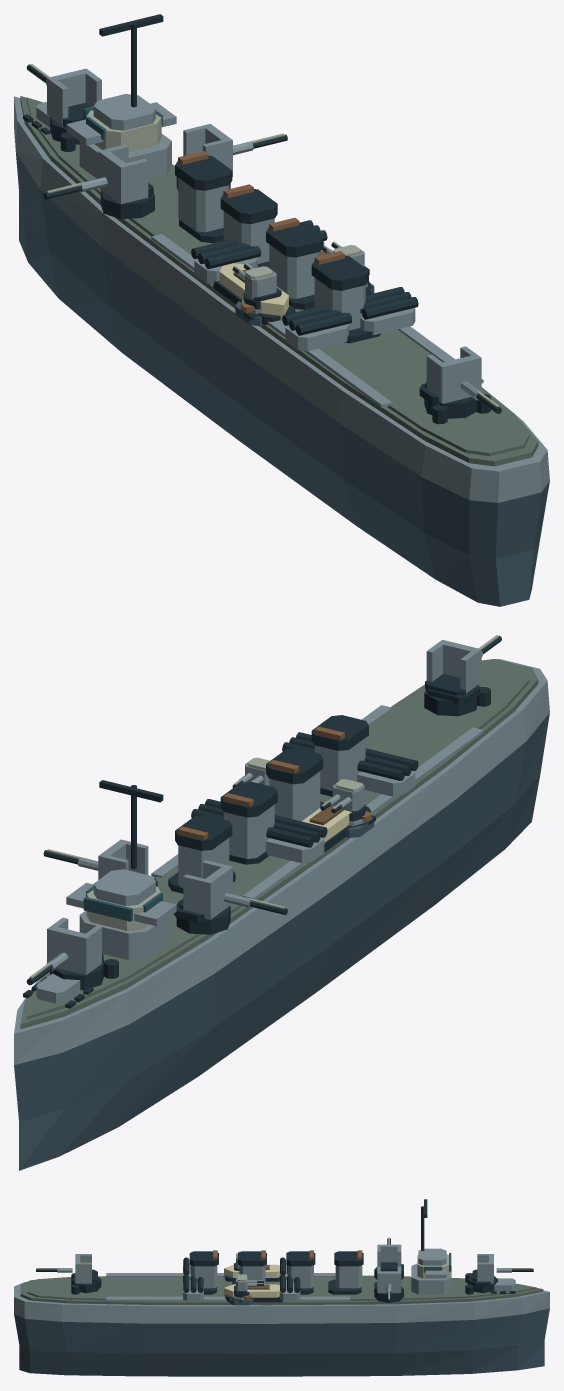
The model's file is historic-wickes.glb.
The picture shows the model from 3 angles, top to bottom: view 1: azimuth 30°, elevation 25°; view 2: azimuth 150°, elevation 25°; view 3: azimuth 270°, elevation 25°; orthographic projection. The views are drawn at different scales.
Parts seen in each view (by area): view 1: historic-wickes-historic-wickes-geometry, historic-wickes-part_bridge.120-geometry, historic-wickes-historic_funnel_0.113-geometry, historic-wickes-turret_main_2.068-geometry, historic-wickes-historic_funnel_2.009-geometry, historic-wickes-turret_main_1.082-geometry, historic-wickes-historic_funnel_3.006-geometry, historic-wickes-historic_funnel_1.063-geometry, historic-wickes-turret_main_0.089-geometry, historic-wickes-torpedo_bank_0.029-geometry, historic-wickes-torpedo_bank_1.026-geometry, historic-wickes-turret_main_3.043-geometry (+2 smaller); view 2: historic-wickes-historic-wickes-geometry, historic-wickes-part_bridge.120-geometry, historic-wickes-turret_main_1.082-geometry, historic-wickes-turret_main_2.068-geometry, historic-wickes-historic_funnel_1.063-geometry, historic-wickes-turret_main_0.089-geometry, historic-wickes-historic_funnel_2.009-geometry, historic-wickes-historic_funnel_3.006-geometry, historic-wickes-historic_funnel_0.113-geometry, historic-wickes-torpedo_bank_2.007-geometry, historic-wickes-torpedo_bank_0.029-geometry, historic-wickes-turret_main_3.043-geometry (+1 smaller); view 3: historic-wickes-historic-wickes-geometry, historic-wickes-part_bridge.120-geometry, historic-wickes-historic_funnel_0.113-geometry, historic-wickes-historic_funnel_1.063-geometry, historic-wickes-turret_main_1.082-geometry, historic-wickes-historic_funnel_3.006-geometry, historic-wickes-turret_main_0.089-geometry, historic-wickes-turret_main_3.043-geometry, historic-wickes-historic_funnel_2.009-geometry, historic-wickes-turret_main_2.068-geometry, historic-wickes-torpedo_bank_3.004-geometry, historic-wickes-torpedo_bank_1.026-geometry (+1 smaller).
Part boxes in pixels (<box>): historic-wickes-historic-wickes-geometry: <box>14,96,549,606</box>; historic-wickes-part_bridge.120-geometry: <box>66,14,176,179</box>; historic-wickes-historic_funnel_0.113-geometry: <box>175,151,232,243</box>; historic-wickes-turret_main_2.068-geometry: <box>43,144,154,218</box>; historic-wickes-historic_funnel_2.009-geometry: <box>266,217,323,309</box>; historic-wickes-turret_main_1.082-geometry: <box>419,346,501,418</box>; historic-wickes-historic_funnel_3.006-geometry: <box>311,251,380,343</box>; historic-wickes-historic_funnel_1.063-geometry: <box>220,184,277,267</box>; historic-wickes-turret_main_0.089-geometry: <box>26,64,101,144</box>; historic-wickes-torpedo_bank_0.029-geometry: <box>282,305,352,351</box>; historic-wickes-torpedo_bank_1.026-geometry: <box>360,287,418,335</box>; historic-wickes-turret_main_3.043-geometry: <box>176,124,287,190</box>; historic-wickes-historic-wickes-geometry: <box>14,659,549,1170</box>; historic-wickes-part_bridge.120-geometry: <box>66,780,176,960</box>; historic-wickes-turret_main_1.082-geometry: <box>424,635,501,716</box>; historic-wickes-turret_main_2.068-geometry: <box>174,860,287,934</box>; historic-wickes-historic_funnel_1.063-geometry: <box>220,781,277,864</box>; historic-wickes-turret_main_0.089-geometry: <box>26,917,104,990</box>; historic-wickes-historic_funnel_2.009-geometry: <box>266,748,323,821</box>; historic-wickes-historic_funnel_3.006-geometry: <box>311,715,368,796</box>; historic-wickes-historic_funnel_0.113-geometry: <box>168,815,235,893</box>; historic-wickes-torpedo_bank_2.007-geometry: <box>266,815,327,863</box>; historic-wickes-torpedo_bank_0.029-geometry: <box>357,748,418,796</box>; historic-wickes-turret_main_3.043-geometry: <box>43,839,157,886</box>; historic-wickes-historic-wickes-geometry: <box>14,1264,549,1376</box>; historic-wickes-part_bridge.120-geometry: <box>411,1199,451,1294</box>; historic-wickes-historic_funnel_0.113-geometry: <box>328,1250,363,1294</box>; historic-wickes-historic_funnel_1.063-geometry: <box>286,1250,315,1294</box>; historic-wickes-turret_main_1.082-geometry: <box>36,1254,101,1293</box>; historic-wickes-historic_funnel_3.006-geometry: <box>189,1250,218,1294</box>; historic-wickes-turret_main_0.089-geometry: <box>468,1254,533,1293</box>; historic-wickes-turret_main_3.043-geometry: <box>374,1266,403,1302</box>; historic-wickes-historic_funnel_2.009-geometry: <box>232,1250,266,1284</box>; historic-wickes-turret_main_2.068-geometry: <box>374,1237,403,1279</box>; historic-wickes-torpedo_bank_3.004-geometry: <box>279,1274,300,1300</box>; historic-wickes-torpedo_bank_1.026-geometry: <box>183,1274,203,1300</box>.
Size of the model in its own units: 1.13 by 1.35 by 4.11.
